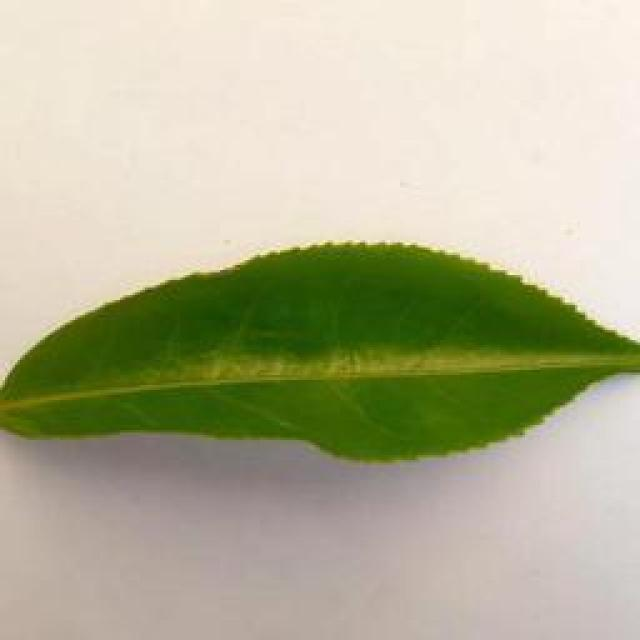Healthy: (0, 243, 640, 470)
